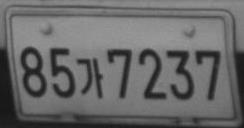2: (137, 47, 166, 99)
3: (167, 49, 195, 99)
5: (49, 46, 75, 98)
7: (195, 49, 221, 100), (107, 48, 132, 98)
8: (19, 45, 47, 98)
가: (76, 57, 104, 99)
